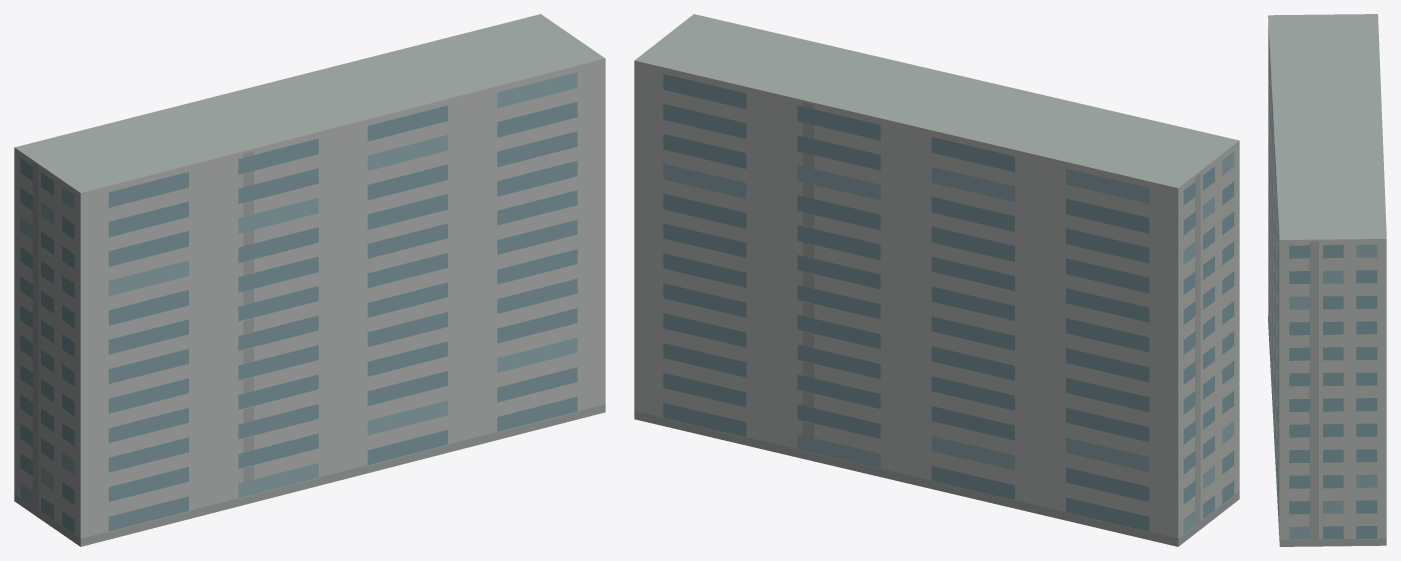
File: residential-37cbe0ad-7186-490c-a54f-33362381b3e0.glb
The picture shows the model from 3 angles, left to right: view 1: azimuth 30°, elevation 25°; view 2: azimuth 150°, elevation 25°; view 3: azimuth 270°, elevation 25°; orthographic projection. The views are drawn at different scales.
Parts seen in each view (by area): view 1: residential-37cbe0ad-7186-490c-a54f-33362381b3e0.tmp; view 2: residential-37cbe0ad-7186-490c-a54f-33362381b3e0.tmp; view 3: residential-37cbe0ad-7186-490c-a54f-33362381b3e0.tmp.
Part boxes in pixels (left/top/right/bottom): residential-37cbe0ad-7186-490c-a54f-33362381b3e0.tmp: left=14, top=14, right=605, bottom=546; residential-37cbe0ad-7186-490c-a54f-33362381b3e0.tmp: left=634, top=14, right=1239, bottom=546; residential-37cbe0ad-7186-490c-a54f-33362381b3e0.tmp: left=1268, top=14, right=1386, bottom=546.
Size of the model in its own units: 57.85 by 36.6 by 12.84.
